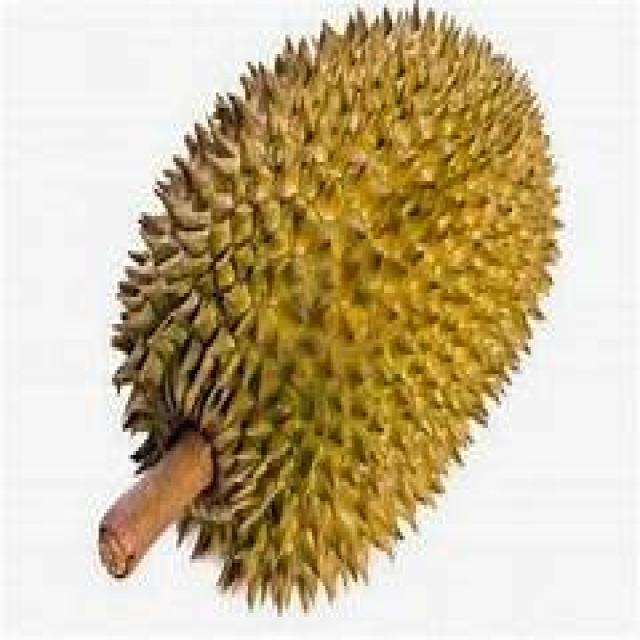mature: (112, 7, 556, 608)
